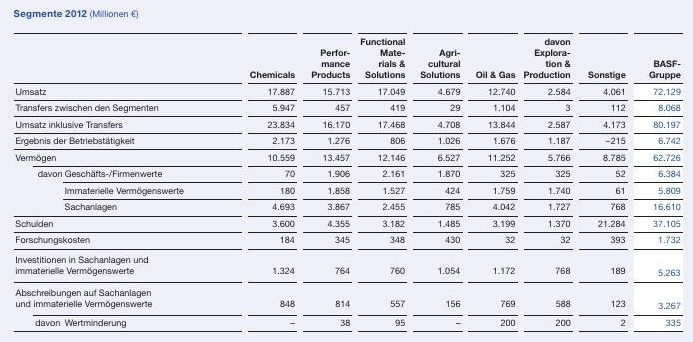table: (0, 0, 693, 342)
